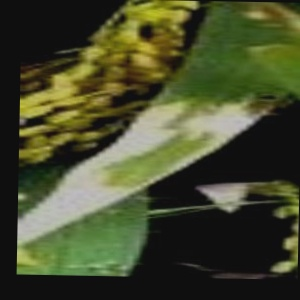Leaf_Blast: (96, 96, 248, 185)
